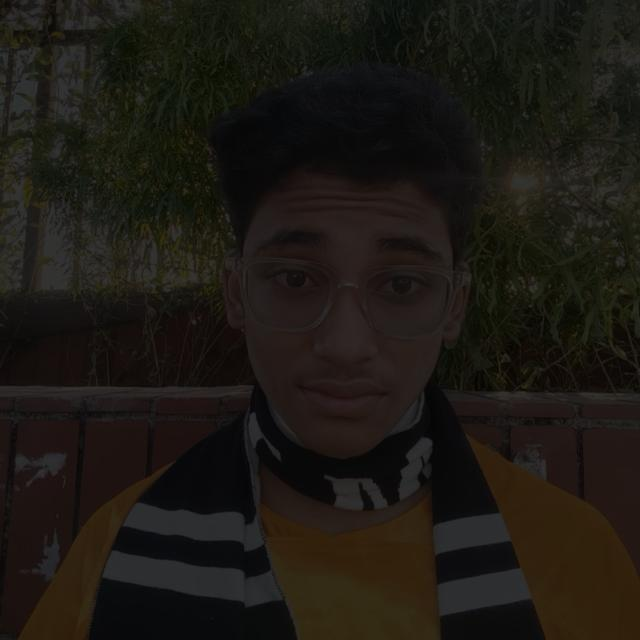Natural: (175, 117, 481, 466)
